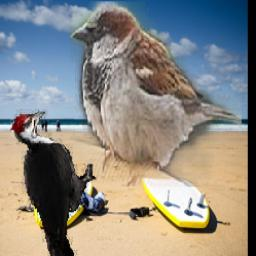Sparrow: (71, 2, 243, 188)
Woodpecker: (10, 109, 97, 256)
